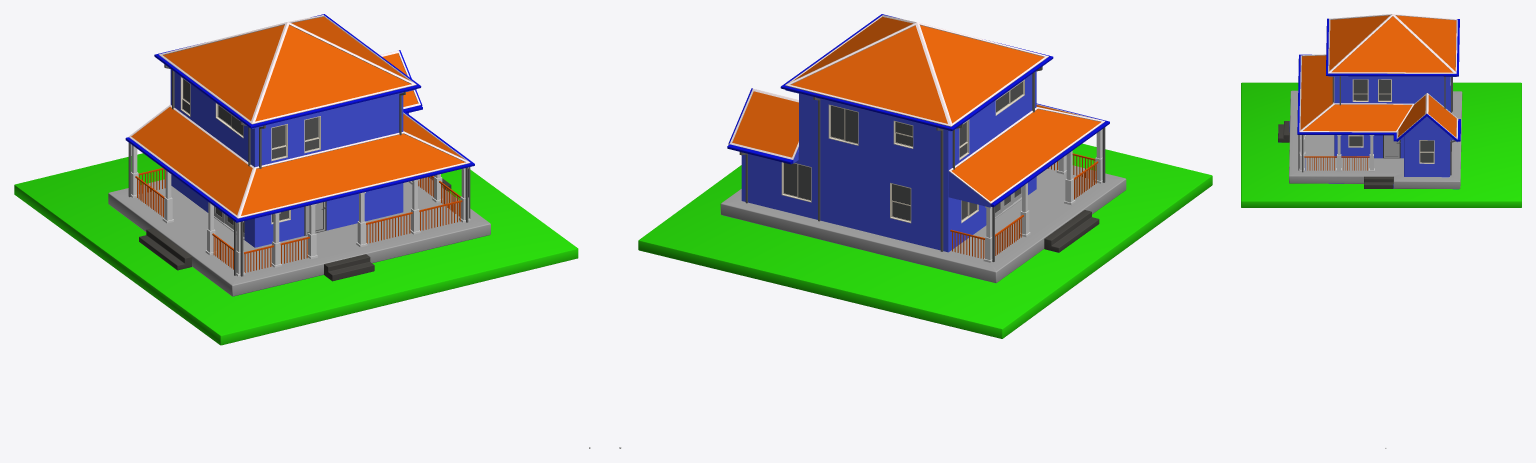
The model's file is house.dae.
3 renders of one model, left to right at view 1: azimuth 30°, elevation 25°; view 2: azimuth 150°, elevation 25°; view 3: azimuth 270°, elevation 25°, orthographic. The views are drawn at different scales.
Visible parts, largest first — view 1: Plane.001, 247_House 15_obj, 247_House 15_obj.014, 247_House 15_obj.006, 247_House 15_obj.003, 247_House 15_obj.008, 247_House 15_obj.009, 247_House 15_obj.007, 247_House 15_obj.011, 247_House 15_obj.004, 247_House 15_obj.010, 247_House 15_obj.012; view 2: Plane.001, 247_House 15_obj.006, 247_House 15_obj, 247_House 15_obj.014, 247_House 15_obj.003, 247_House 15_obj.011, 247_House 15_obj.008, 247_House 15_obj.009, 247_House 15_obj.004, 247_House 15_obj.010, 247_House 15_obj.007; view 3: Plane.001, 247_House 15_obj, 247_House 15_obj.006, 247_House 15_obj.014, 247_House 15_obj.003, 247_House 15_obj.011, 247_House 15_obj.007, 247_House 15_obj.010, 247_House 15_obj.009, 247_House 15_obj.008, 247_House 15_obj.004, 247_House 15_obj.012.
Part boxes in pixels (x1,y1,x2,y2): Plane.001: (14, 153, 578, 345); 247_House 15_obj: (131, 14, 464, 247); 247_House 15_obj.014: (108, 177, 490, 296); 247_House 15_obj.006: (125, 14, 474, 247); 247_House 15_obj.003: (128, 15, 470, 218); 247_House 15_obj.008: (135, 168, 462, 272); 247_House 15_obj.009: (131, 144, 470, 276); 247_House 15_obj.007: (139, 175, 451, 281); 247_House 15_obj.011: (182, 79, 318, 232); 247_House 15_obj.004: (128, 64, 470, 276); 247_House 15_obj.010: (180, 76, 320, 224); 247_House 15_obj.012: (214, 202, 325, 236); Plane.001: (638, 143, 1212, 338); 247_House 15_obj.006: (727, 56, 1109, 252); 247_House 15_obj: (728, 14, 1100, 251); 247_House 15_obj.014: (720, 162, 1126, 282); 247_House 15_obj.003: (729, 15, 1105, 203); 247_House 15_obj.011: (784, 81, 1022, 220); 247_House 15_obj.008: (950, 153, 1098, 258); 247_House 15_obj.009: (983, 129, 1102, 262); 247_House 15_obj.004: (739, 66, 1105, 261); 247_House 15_obj.010: (781, 79, 1024, 223); 247_House 15_obj.007: (1044, 210, 1099, 252); Plane.001: (1241, 82, 1521, 207); 247_House 15_obj: (1300, 15, 1458, 176); 247_House 15_obj.006: (1297, 18, 1460, 176); 247_House 15_obj.014: (1289, 90, 1462, 189); 247_House 15_obj.003: (1299, 14, 1458, 139); 247_House 15_obj.011: (1349, 79, 1433, 162); 247_House 15_obj.007: (1278, 121, 1393, 188); 247_House 15_obj.010: (1348, 77, 1450, 163); 247_House 15_obj.009: (1299, 135, 1374, 171); 247_House 15_obj.008: (1304, 156, 1369, 170); 247_House 15_obj.004: (1298, 76, 1455, 175); 247_House 15_obj.012: (1384, 135, 1399, 157).
Bounding box in the file's own units: 22.09 × 16.61 × 21.94.
